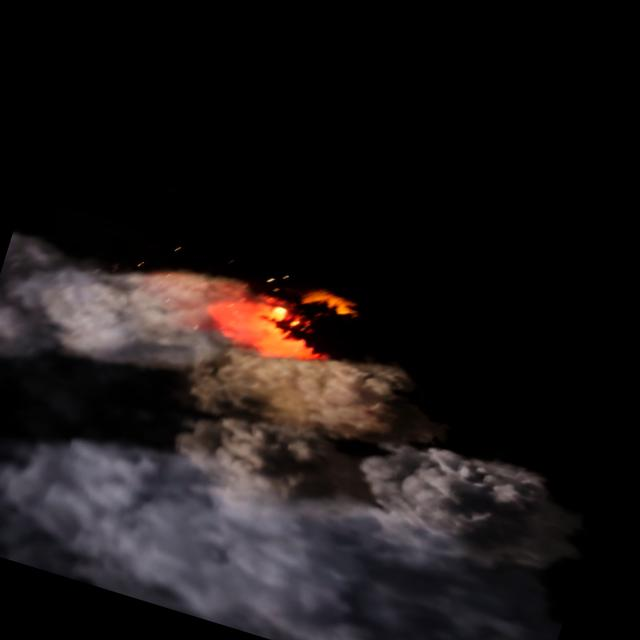fire: (195, 253, 363, 379)
smoke: (0, 214, 620, 640)
